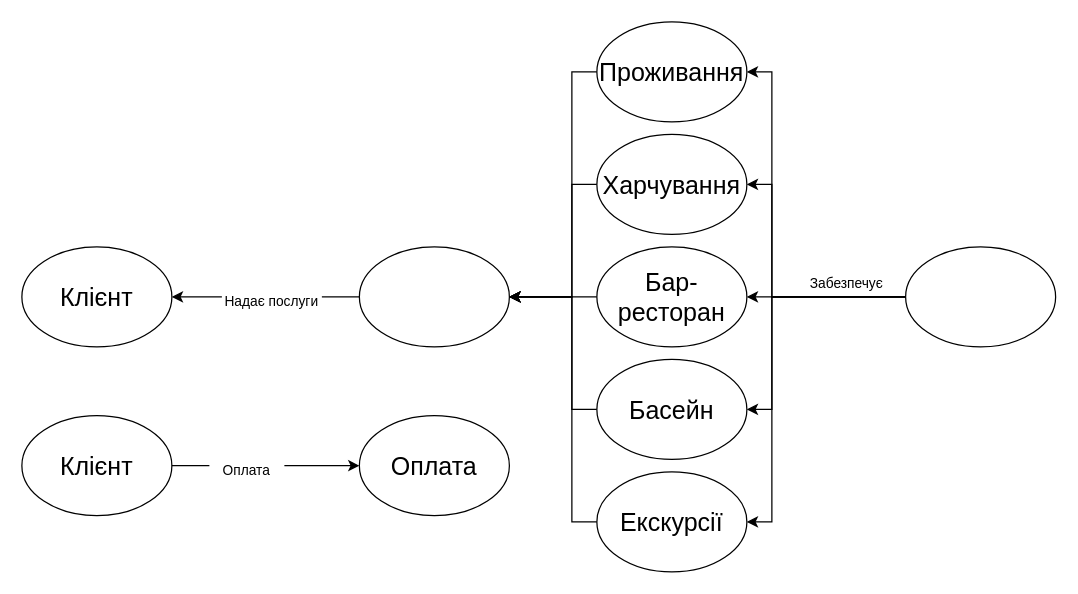
Image size: 1078x594. Some labels were removed from this diagram. Here are the shapes that lost their labels. From the top down, the box of each, then its label:
(358, 246, 509, 347): Персонал
(904, 246, 1056, 347): Готель
